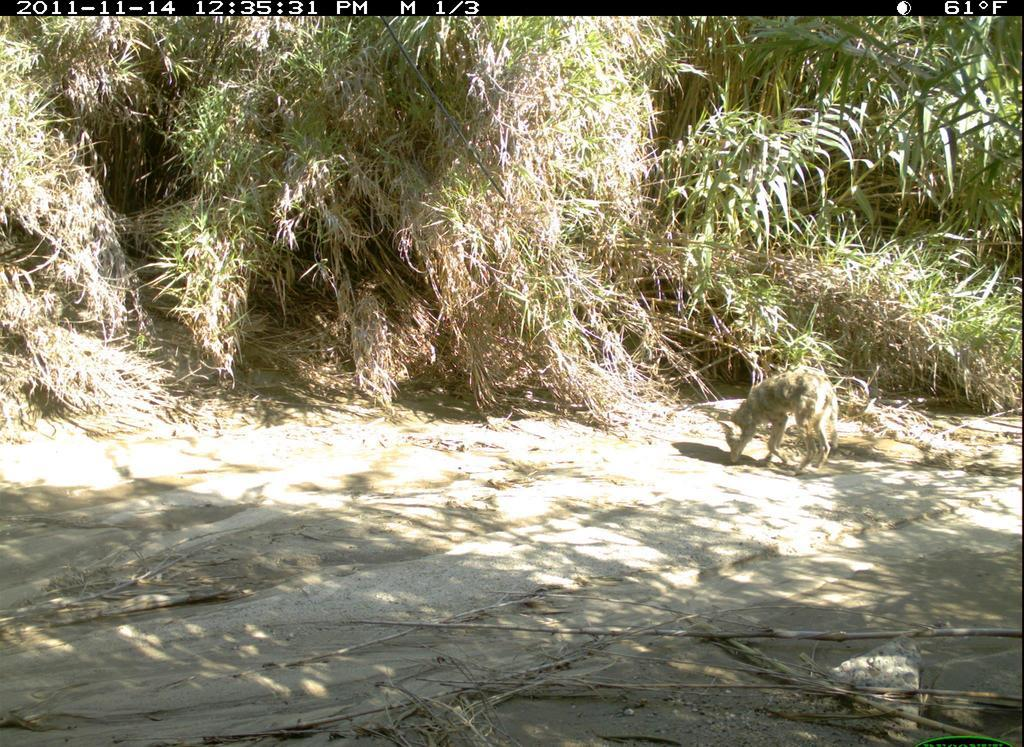coyote: (713, 365, 857, 480)
